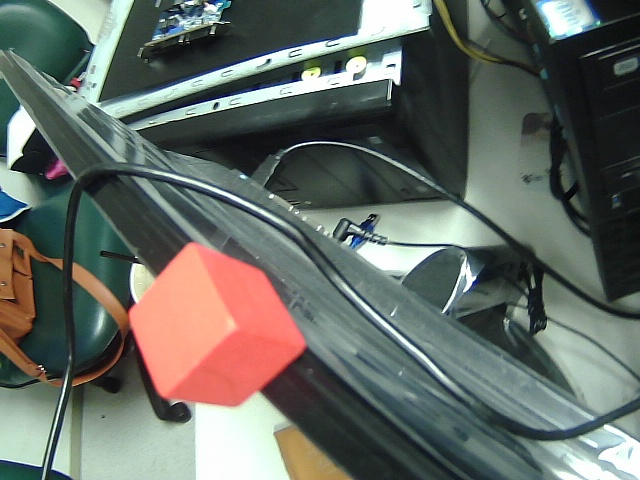redbox: (110, 241, 315, 418)
